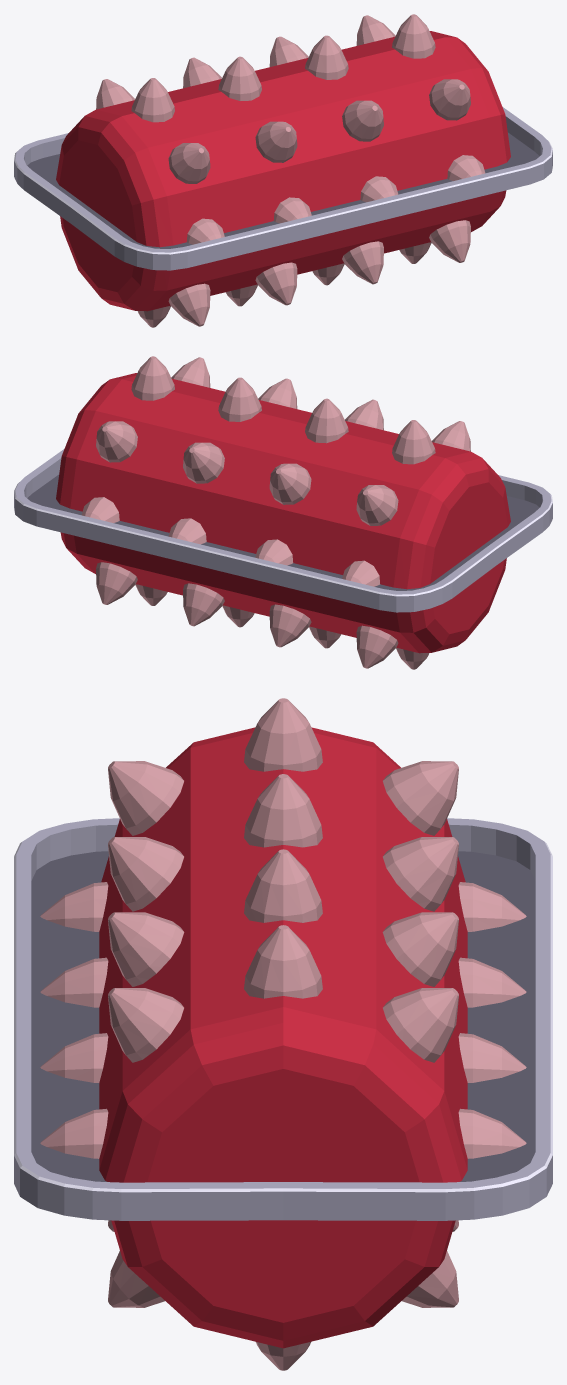
File: Hurdle6.fbx
The picture shows the model from 3 angles, top to bottom: view 1: azimuth 30°, elevation 25°; view 2: azimuth 150°, elevation 25°; view 3: azimuth 270°, elevation 25°; orthographic projection. The views are drawn at different scales.
Visible parts, largest first — view 1: Hurdle6; view 2: Hurdle6; view 3: Hurdle6.
Boxes of the visible parts, <box> form: Hurdle6: <box>14,14,552,327</box>; Hurdle6: <box>14,356,552,669</box>; Hurdle6: <box>14,698,552,1370</box>.
Bounding box in the file's own units: 2.13 × 1.17 × 1.3.
Materials: 1 (1 with a texture image).
